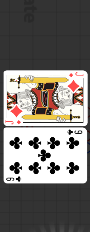9C: (67, 128, 84, 136)
JD: (68, 71, 85, 78)
